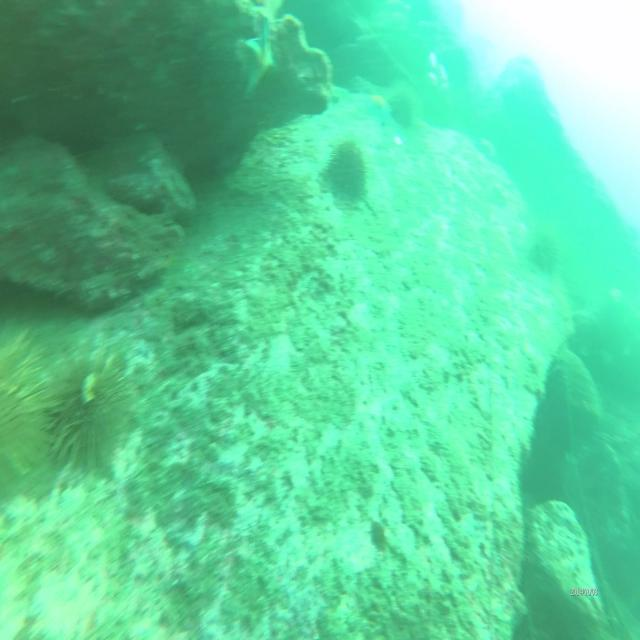echinus: (44, 347, 138, 475), (0, 326, 47, 485), (328, 138, 368, 208), (531, 226, 560, 278), (391, 87, 414, 128)
